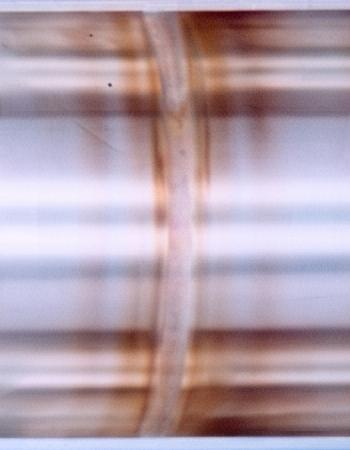soldas: (79, 4, 288, 442)
